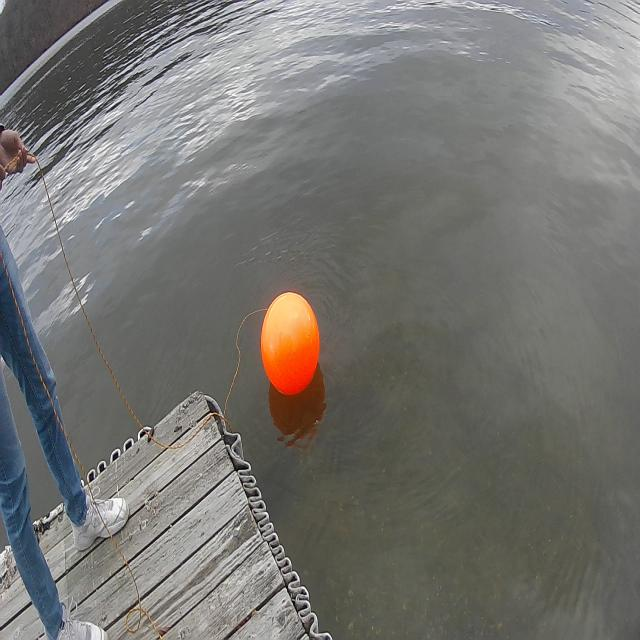Buoy: (260, 288, 322, 405)
